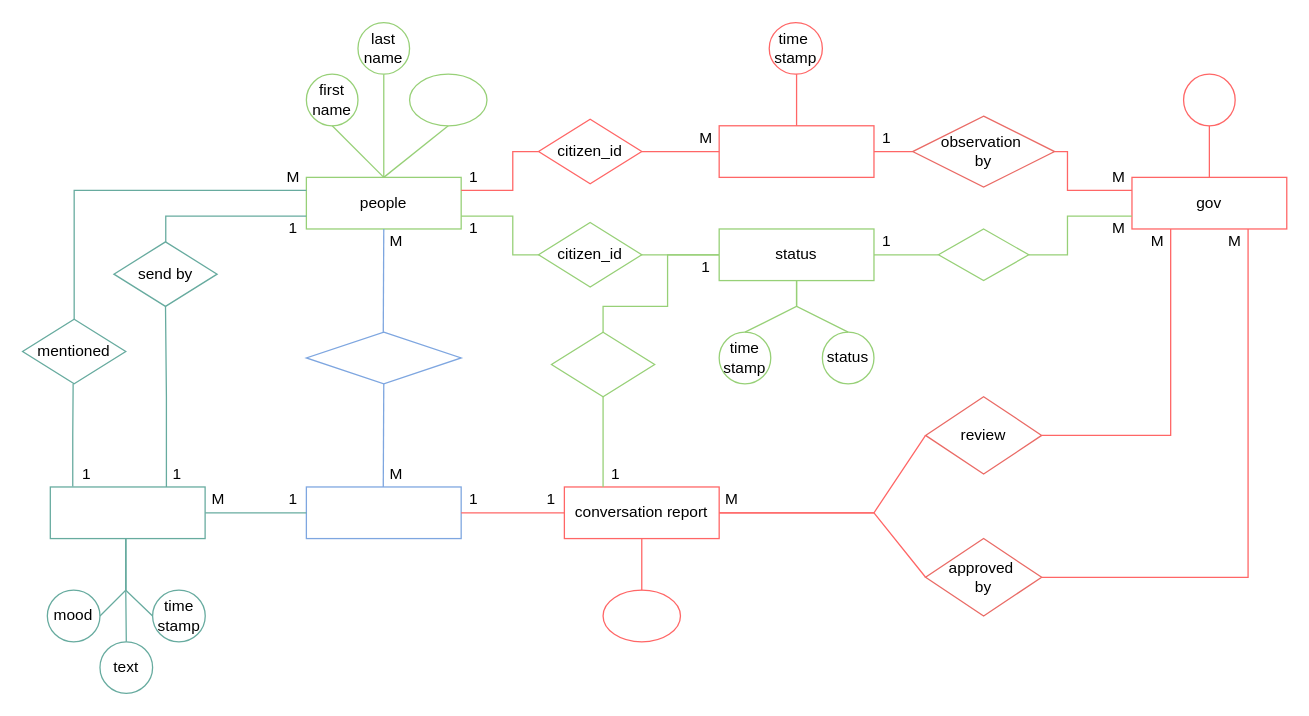
The diagram is 1309 pixels wide and 716 high, and some of its shapes have lost their labels. Here are the shapes that lost their labels. From the top down, the centre of each, then its label:
the point at 447,99: passport
the point at 1208,99: rank
the point at 796,150: history of control
the point at 983,254: set by
the point at 383,357: participaiting
the point at 602,364: set by report
the point at 127,512: messages
the point at 383,512: conversation
the point at 641,615: attention level
